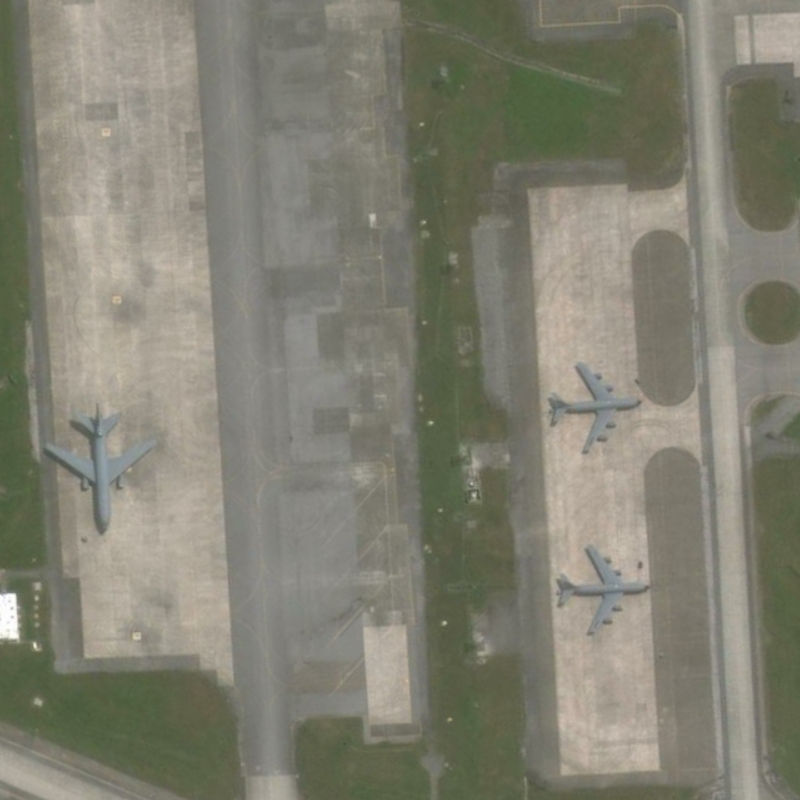A14: (544, 357, 646, 457), (553, 543, 656, 642)
A18: (36, 400, 160, 537)
